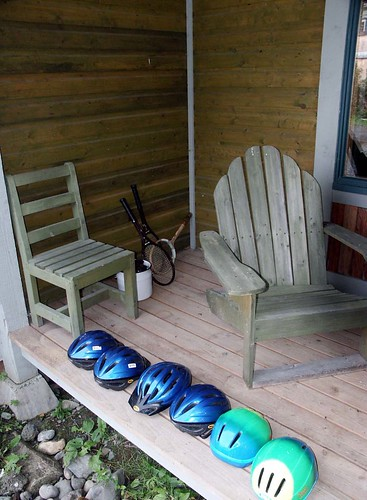helmet: (256, 443, 324, 498), (214, 407, 276, 461), (174, 377, 228, 425), (141, 360, 188, 402), (95, 344, 141, 381), (71, 323, 107, 363)
